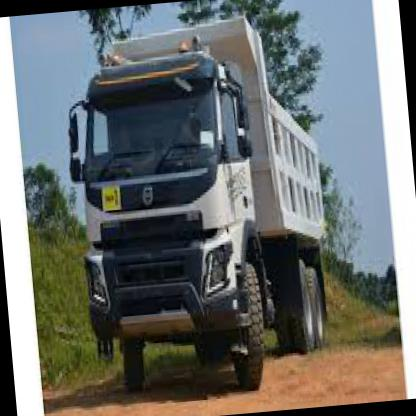truck: (72, 48, 274, 392)
